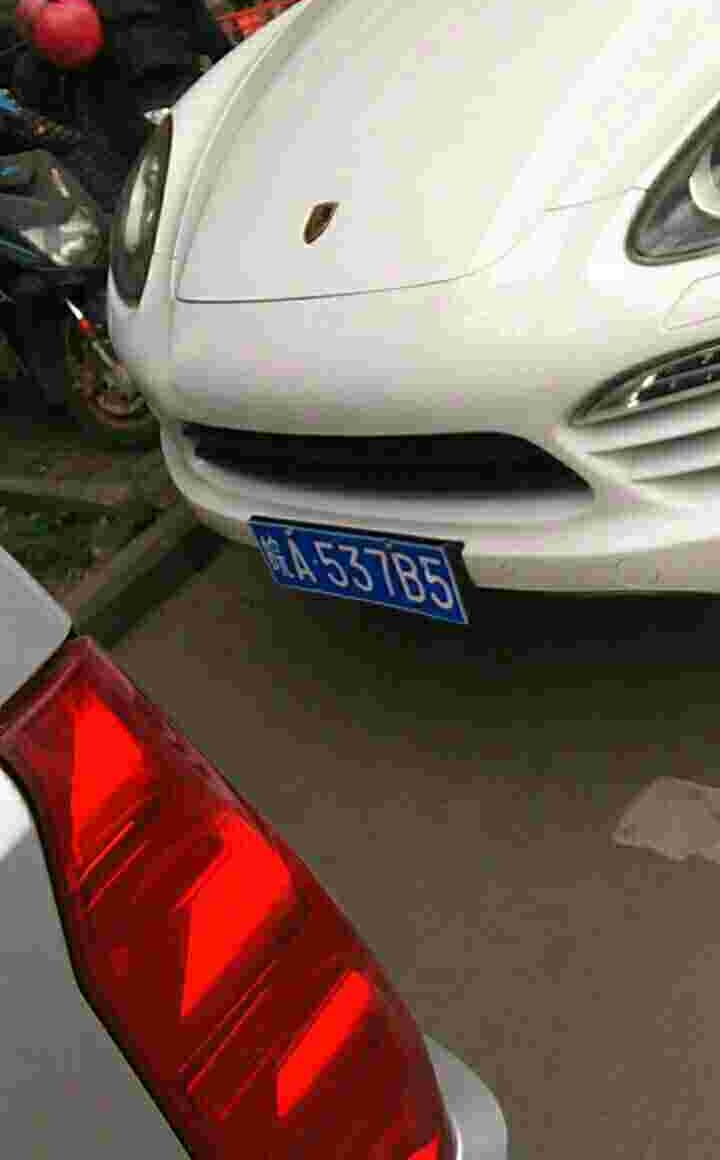license_plate: (248, 519, 469, 629)
